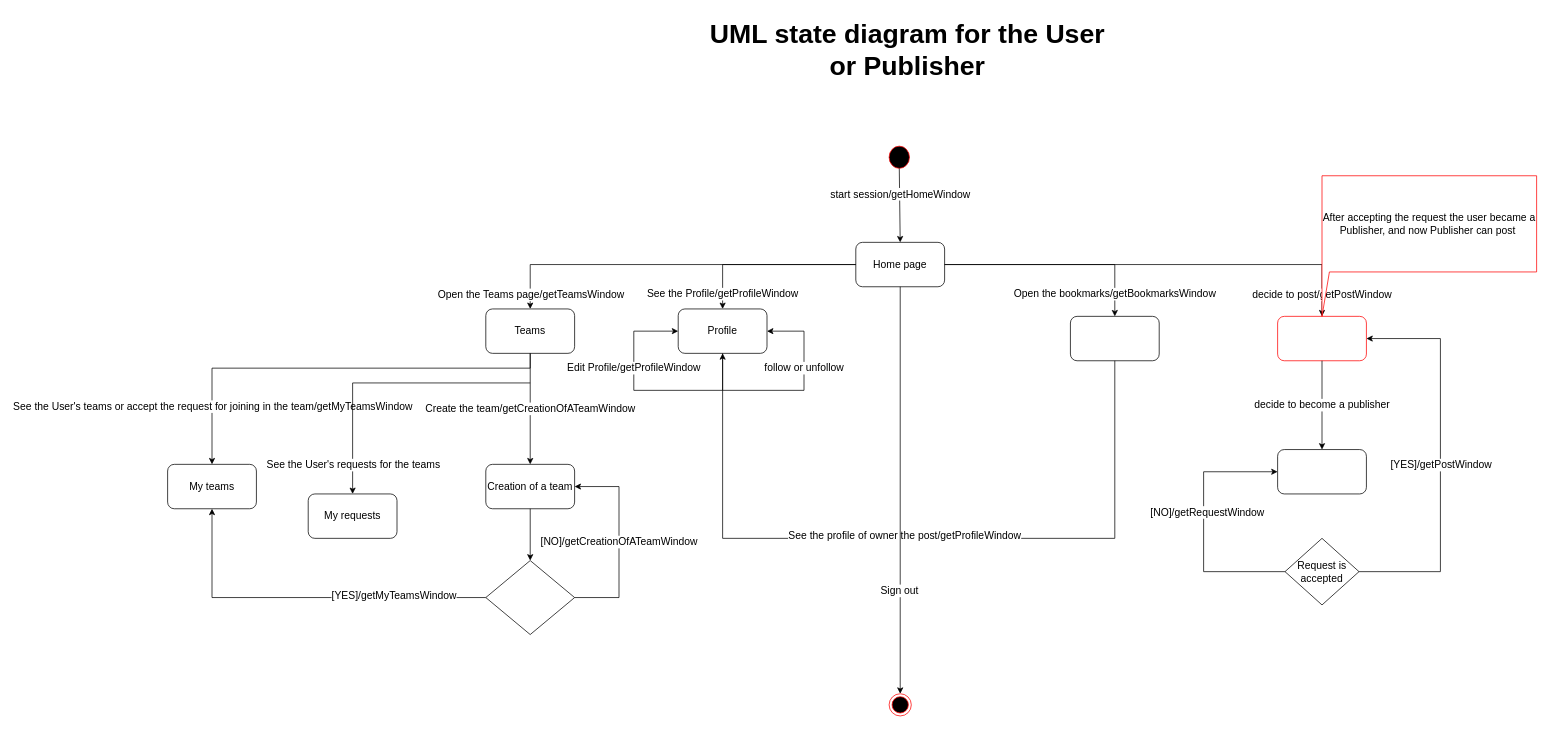
The diagram is 1550 pixels wide and 729 high, and some of its shapes have lost their labels. Each missing label, with the centre of its shape:
"All input data is correct" goes at point (530, 597).
"Bookmarks" goes at point (1114, 338).
"Post page" goes at point (1321, 338).
"Request" goes at point (1321, 471).
